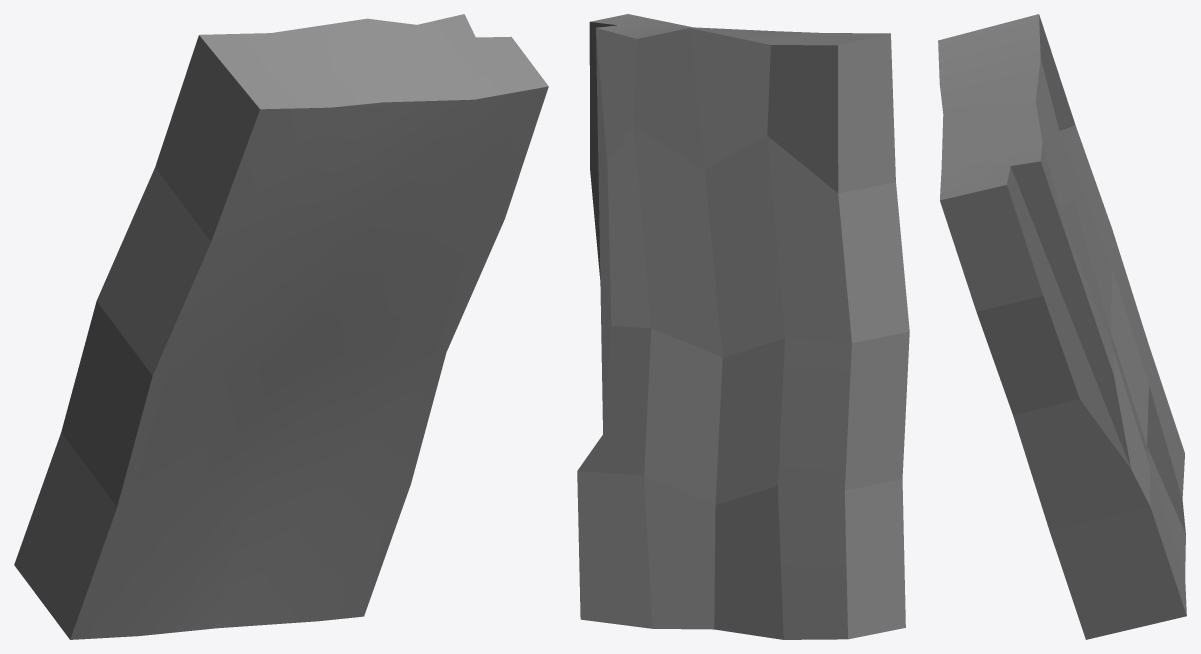
Rendered from Fixed Mesh 19.fbx.
The picture shows the model from 3 angles, left to right: view 1: azimuth 30°, elevation 25°; view 2: azimuth 150°, elevation 25°; view 3: azimuth 270°, elevation 25°; orthographic projection. The views are drawn at different scales.
Parts seen in each view (by area): view 1: Collapsed (L); view 2: Collapsed (L); view 3: Collapsed (L).
Part boxes in pixels (bbox=[...]): Collapsed (L): bbox=[14, 14, 548, 639]; Collapsed (L): bbox=[577, 14, 909, 639]; Collapsed (L): bbox=[938, 14, 1186, 639].
Bounding box in the file's own units: 195 × 306 × 126.
